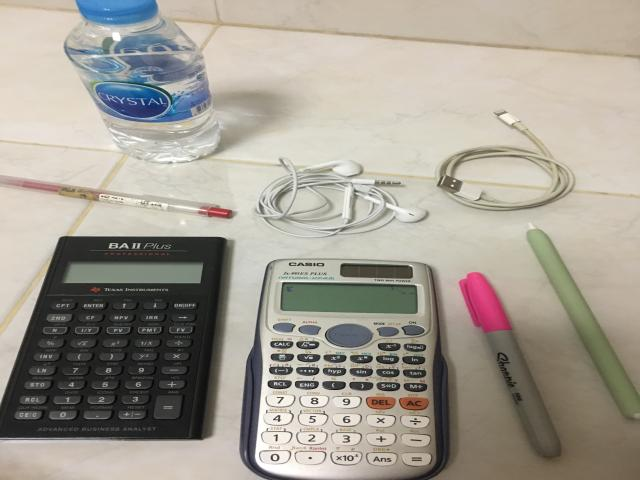Pen: (459, 272, 563, 459), (0, 175, 232, 218)
bottle: (65, 0, 220, 163)
wire: (436, 109, 576, 211), (253, 158, 427, 238)
